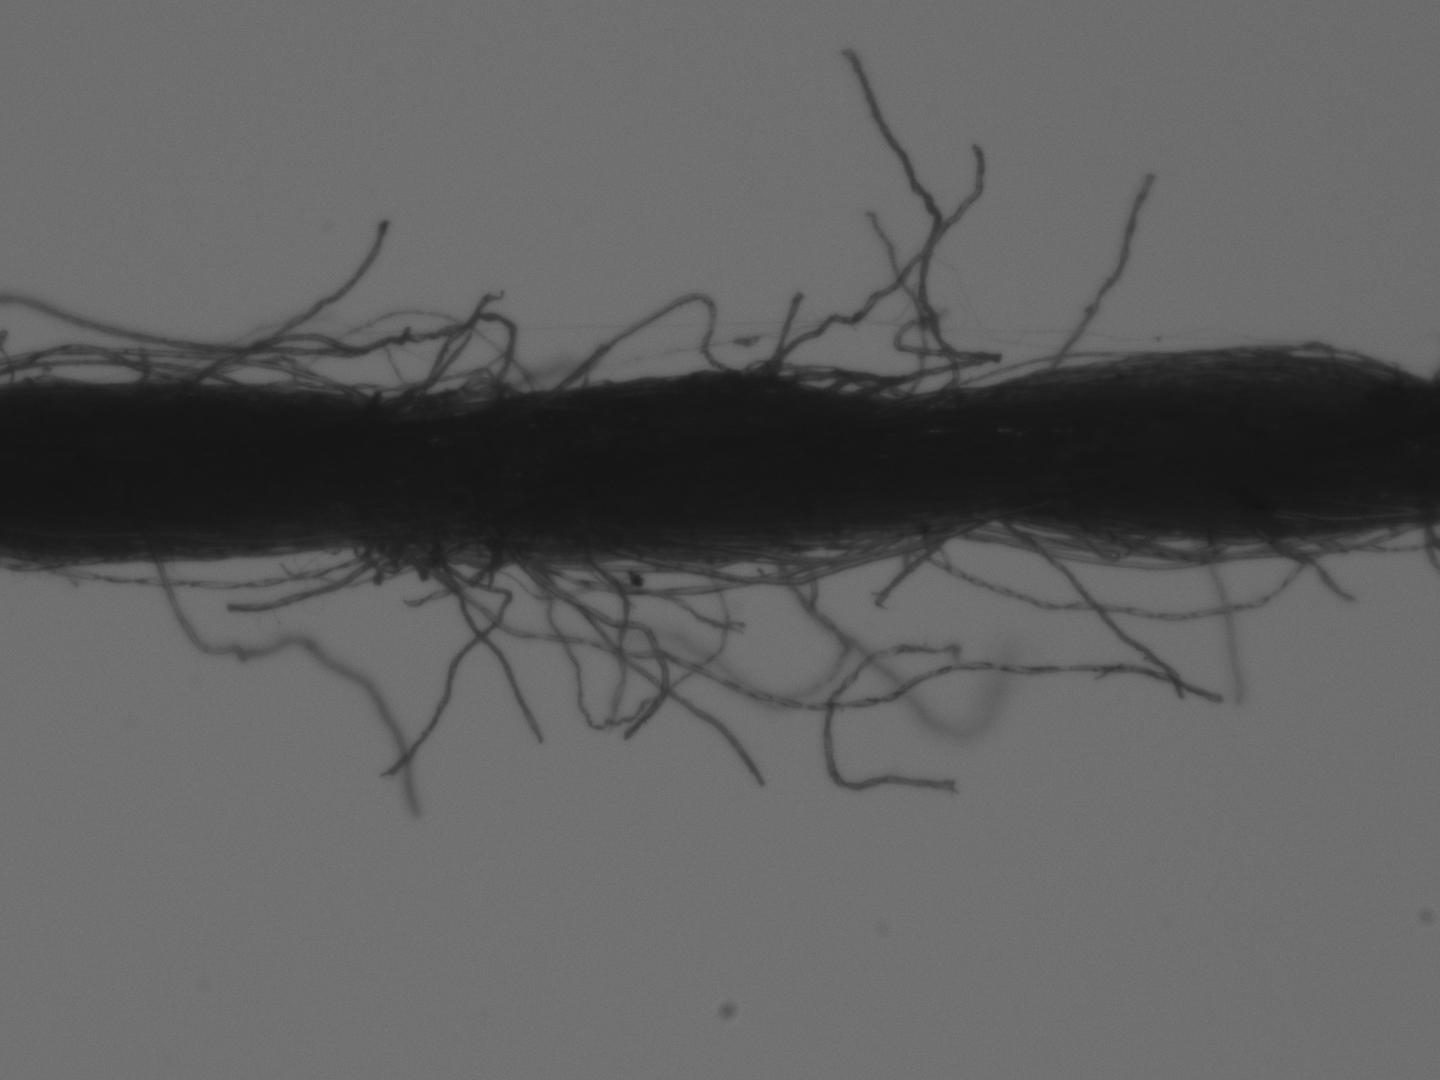loop_fiber: (620, 522, 990, 591), (535, 290, 739, 402), (184, 352, 383, 408), (1251, 523, 1426, 569), (5, 339, 153, 389), (410, 358, 520, 420), (351, 537, 464, 594), (1058, 514, 1179, 565), (782, 366, 918, 402)
protruding_fiber: (997, 511, 1198, 710), (1025, 168, 1159, 407)
